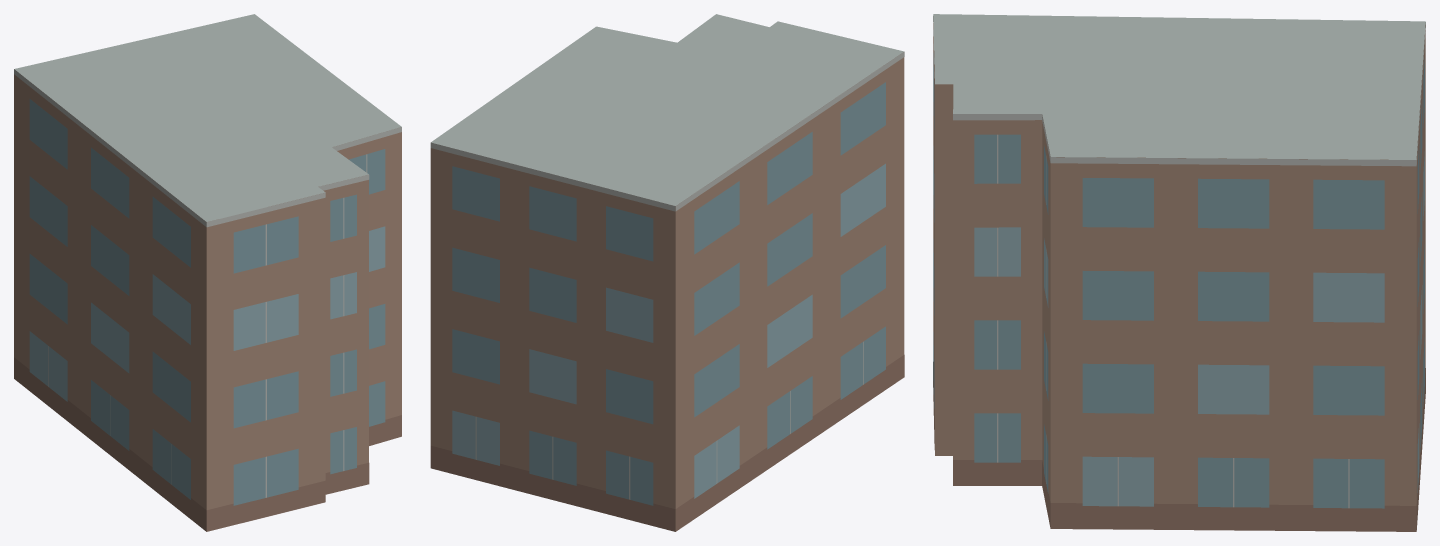
Rendered from survey-upis-32591185.glb.
The picture shows the model from 3 angles, left to right: view 1: azimuth 30°, elevation 25°; view 2: azimuth 150°, elevation 25°; view 3: azimuth 270°, elevation 25°; orthographic projection. The views are drawn at different scales.
Visible parts, largest first — view 1: survey-upis-32591185.tmp; view 2: survey-upis-32591185.tmp; view 3: survey-upis-32591185.tmp.
Boxes of the visible parts, <box> form: survey-upis-32591185.tmp: <box>14,14,401,531</box>; survey-upis-32591185.tmp: <box>430,14,904,531</box>; survey-upis-32591185.tmp: <box>933,14,1425,531</box>.
Size of the model in its own units: 12.22 by 14.5 by 17.41.
